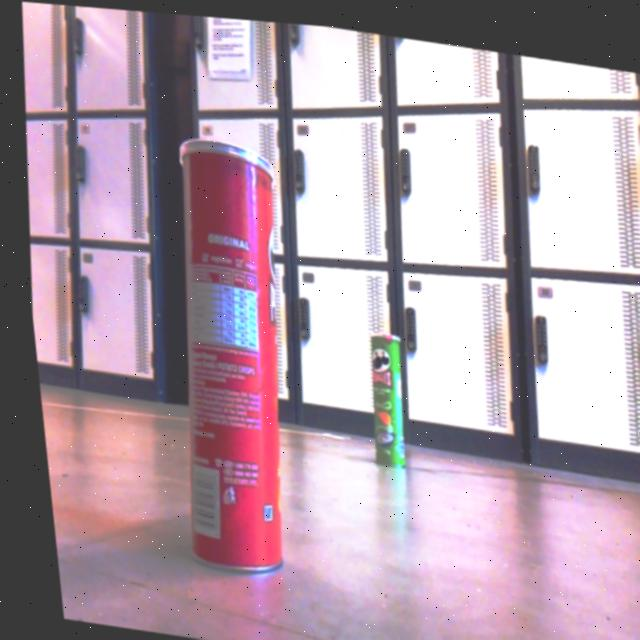greenpringles: (342, 314, 417, 477)
redpringles: (126, 113, 315, 593)
